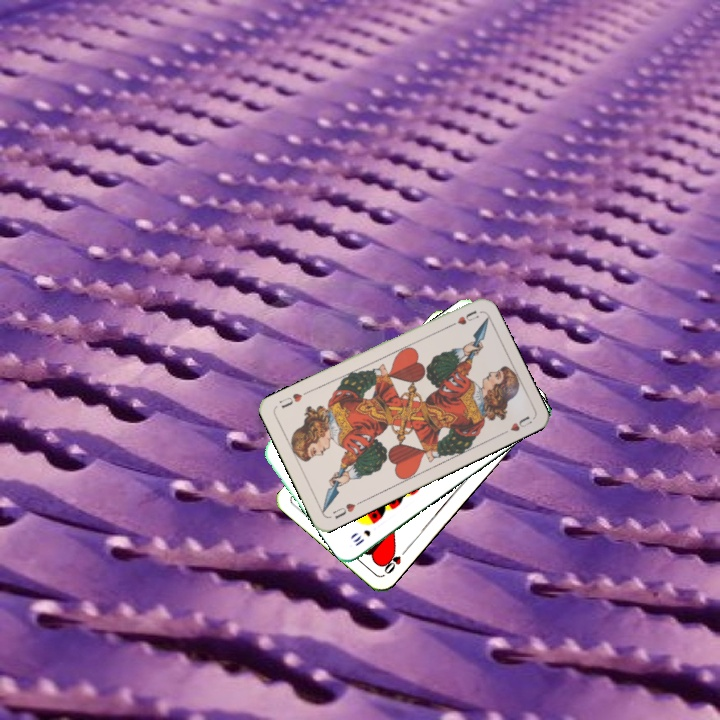HO: (380, 544, 410, 577)
HU: (443, 306, 481, 330), (328, 497, 364, 522)
S10: (349, 525, 373, 549)
